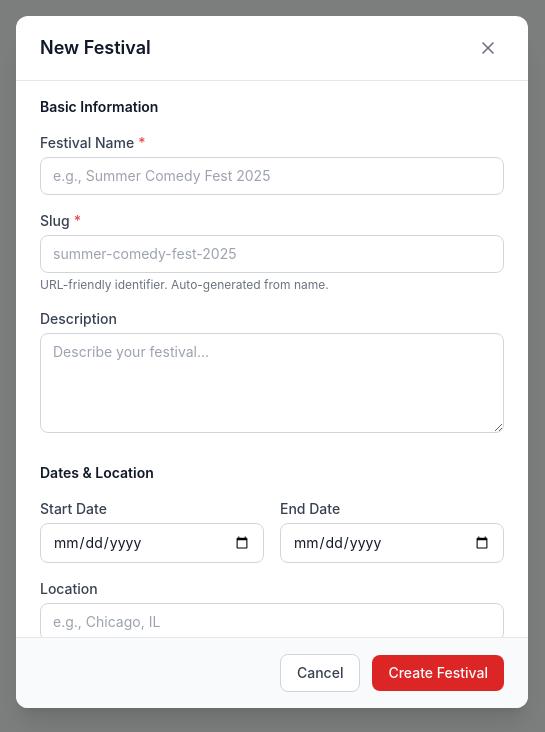
Test: FestivalForm › form validation › validates slug pattern
The width and height of the screenshot is (545, 732).
Type "Test" into the field with placeholder "e.g., Summer Comedy Fest 2025".
click(272, 176); type("Test")  # box [40,157,504,195]
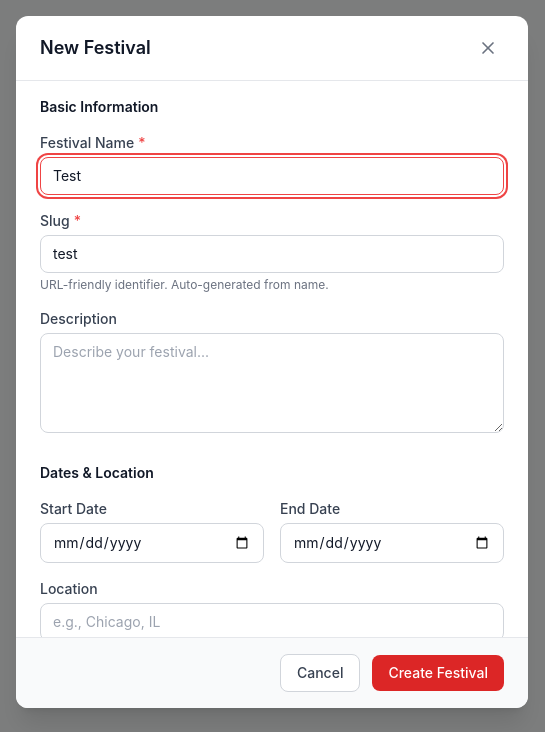
// Enter invalid slug with uppercase
Replace the text in the field with placeholder "summer-comedy-fest-2025" with "Invalid Slug!" at [272, 254], box [40,235,504,273]
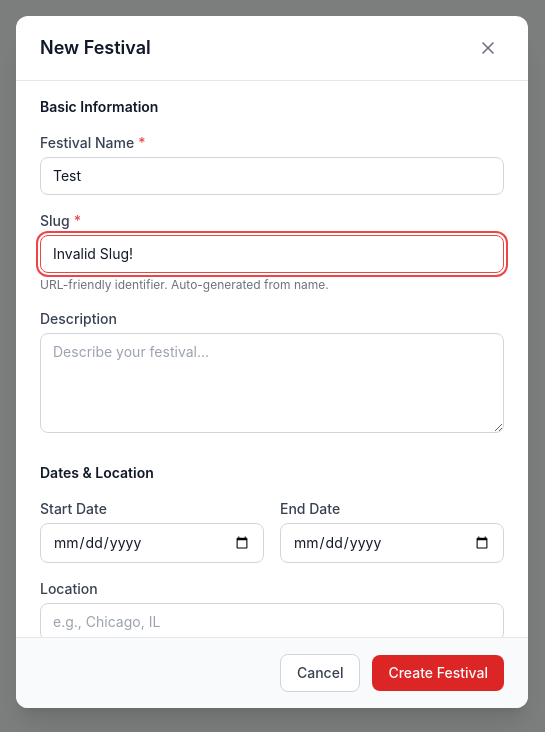
Click the button "Create Festival".
click(438, 673)  # box [372,655,504,691]
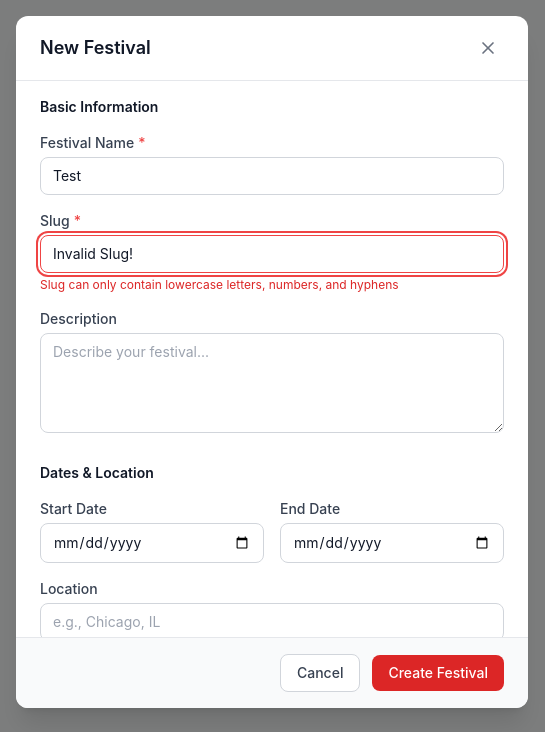
Check: the text "Slug can only contain lowercase letters, numbers, and hyphens" is shown, box [40,277,399,292]
